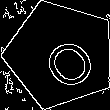O_NW: (26, 21, 95, 88)
